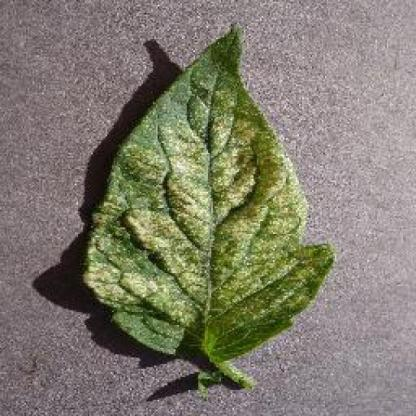Tomato_Spider_Mites: (84, 24, 332, 357)
